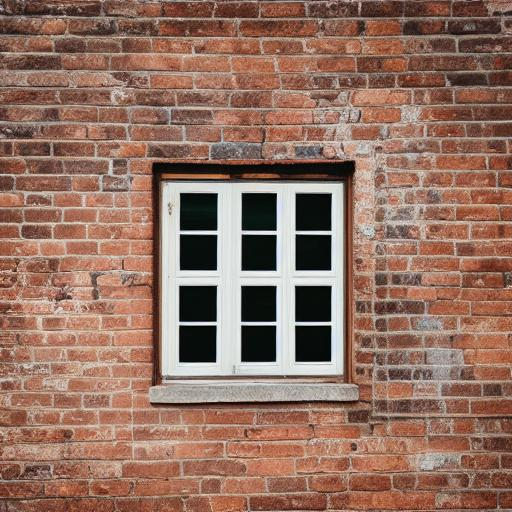Window: (147, 153, 362, 404)
